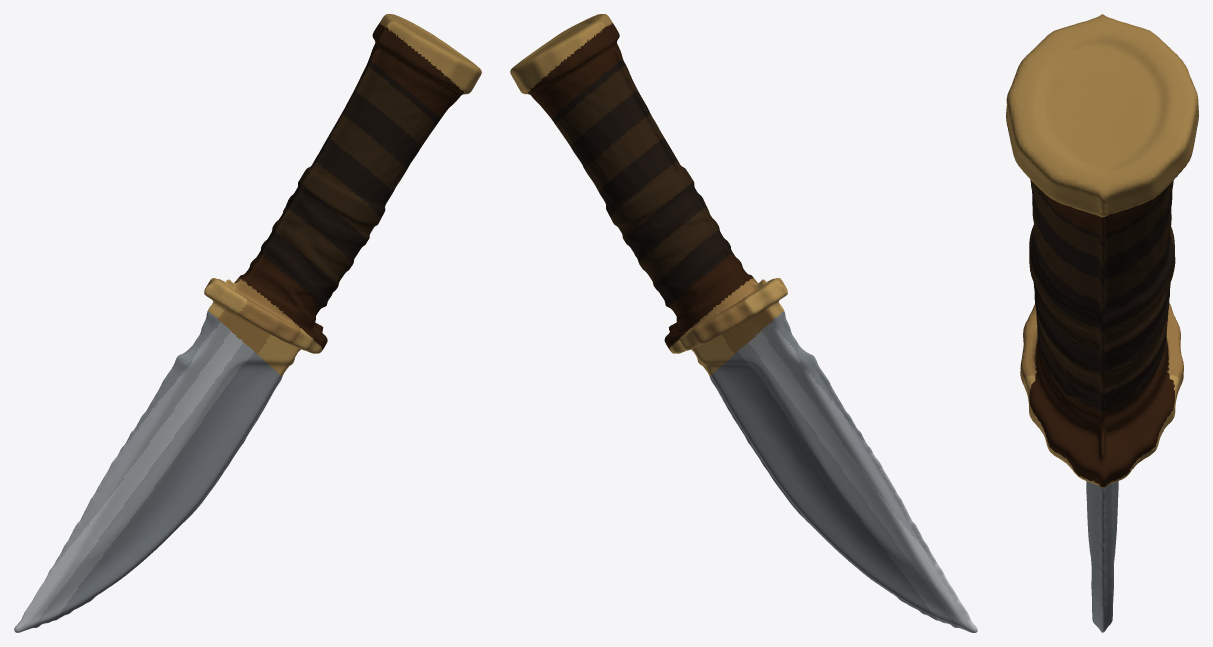
The model's file is adaga.glb.
3 views of the same model, side by side, from view 1: azimuth 30°, elevation 25°; view 2: azimuth 150°, elevation 25°; view 3: azimuth 270°, elevation 25° (orthographic). The views are drawn at different scales.
Visible parts, largest first — view 1: tmpox2tj4tc.ply; view 2: tmpox2tj4tc.ply; view 3: tmpox2tj4tc.ply.
Boxes of the visible parts, x1,y1,x2,y2 form: tmpox2tj4tc.ply: (14,14,481,632); tmpox2tj4tc.ply: (510,14,977,632); tmpox2tj4tc.ply: (1006,14,1198,632).
Bounding box in the file's own units: 1.81 × 1.96 × 0.3834.
